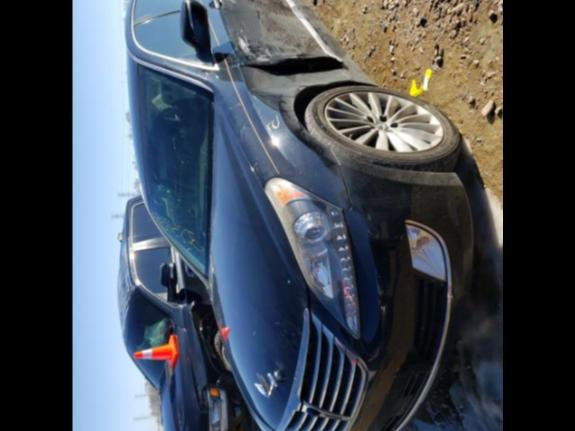Broken part: (235, 53, 348, 77)
Dent: (239, 65, 354, 93)
Missing part: (340, 54, 376, 85)
Scratch: (240, 19, 266, 55), (237, 36, 256, 59), (255, 54, 272, 64), (244, 37, 249, 47), (265, 49, 271, 57)
